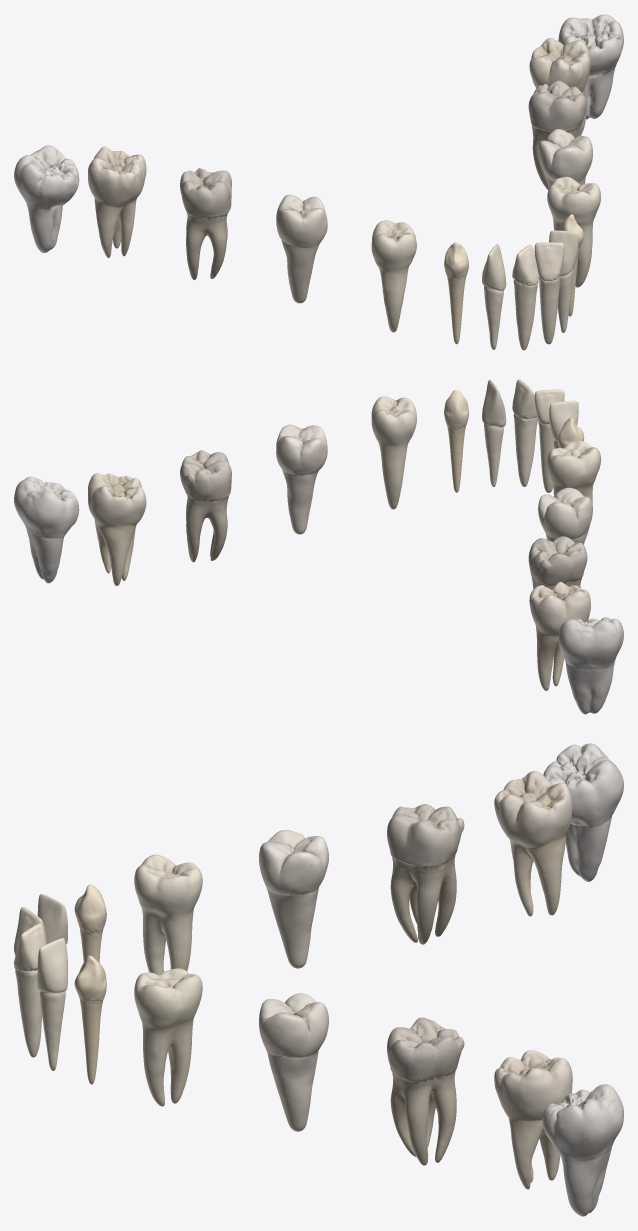
File: superior_permanente_optimizado.glb
The picture shows the model from 3 angles, top to bottom: view 1: azimuth 30°, elevation 25°; view 2: azimuth 150°, elevation 25°; view 3: azimuth 270°, elevation 25°; orthographic projection. The views are drawn at different scales.
Parts seen in each view (by area): view 1: diente_27, diente_28, diente_26, diente_25, diente_18, diente_24, diente_16, diente_14, diente_17, diente_15, diente_11, diente_21 (+4 smaller); view 2: diente_28, diente_17, diente_18, diente_16, diente_15, diente_27, diente_14, diente_26, diente_25, diente_24, diente_11, diente_12 (+4 smaller); view 3: diente_26, diente_16, diente_27, diente_18, diente_14, diente_17, diente_15, diente_25, diente_28, diente_24, diente_12, diente_11 (+3 smaller).
Boxes of the visible parts, left/top/right/bottom form: diente_27: left=88, top=146, right=146, bottom=257; diente_28: left=14, top=145, right=79, bottom=252; diente_26: left=180, top=168, right=231, bottom=279; diente_25: left=276, top=194, right=327, bottom=303; diente_18: left=558, top=14, right=623, bottom=119; diente_24: left=371, top=220, right=416, bottom=332; diente_16: left=528, top=80, right=587, bottom=190; diente_14: left=547, top=176, right=601, bottom=287; diente_17: left=529, top=38, right=590, bottom=134; diente_15: left=538, top=129, right=592, bottom=188; diente_11: left=534, top=242, right=564, bottom=344; diente_21: left=512, top=244, right=538, bottom=350; diente_28: left=558, top=617, right=623, bottom=714; diente_17: left=88, top=473, right=146, bottom=585; diente_18: left=14, top=476, right=79, bottom=583; diente_16: left=180, top=450, right=231, bottom=562; diente_15: left=276, top=424, right=327, bottom=534; diente_27: left=529, top=582, right=590, bottom=690; diente_14: left=371, top=396, right=416, bottom=509; diente_26: left=528, top=536, right=587, bottom=589; diente_25: left=538, top=487, right=592, bottom=544; diente_24: left=547, top=440, right=601, bottom=539; diente_11: left=512, top=379, right=537, bottom=486; diente_12: left=482, top=379, right=506, bottom=486; diente_26: left=387, top=804, right=464, bottom=944; diente_16: left=387, top=1017, right=464, bottom=1165; diente_27: left=494, top=771, right=572, bottom=916; diente_18: left=542, top=1084, right=623, bottom=1216; diente_14: left=134, top=968, right=202, bottom=1106; diente_17: left=494, top=1050, right=572, bottom=1189; diente_15: left=259, top=993, right=328, bottom=1131; diente_25: left=259, top=830, right=328, bottom=968; diente_28: left=543, top=743, right=623, bottom=881; diente_24: left=134, top=854, right=202, bottom=974; diente_12: left=37, top=938, right=67, bottom=1070; diente_11: left=14, top=923, right=46, bottom=1057.
Bounding box in the file's own units: 11.72 × 1.9 × 8.14.
Materials: 8 (8 with a texture image).
